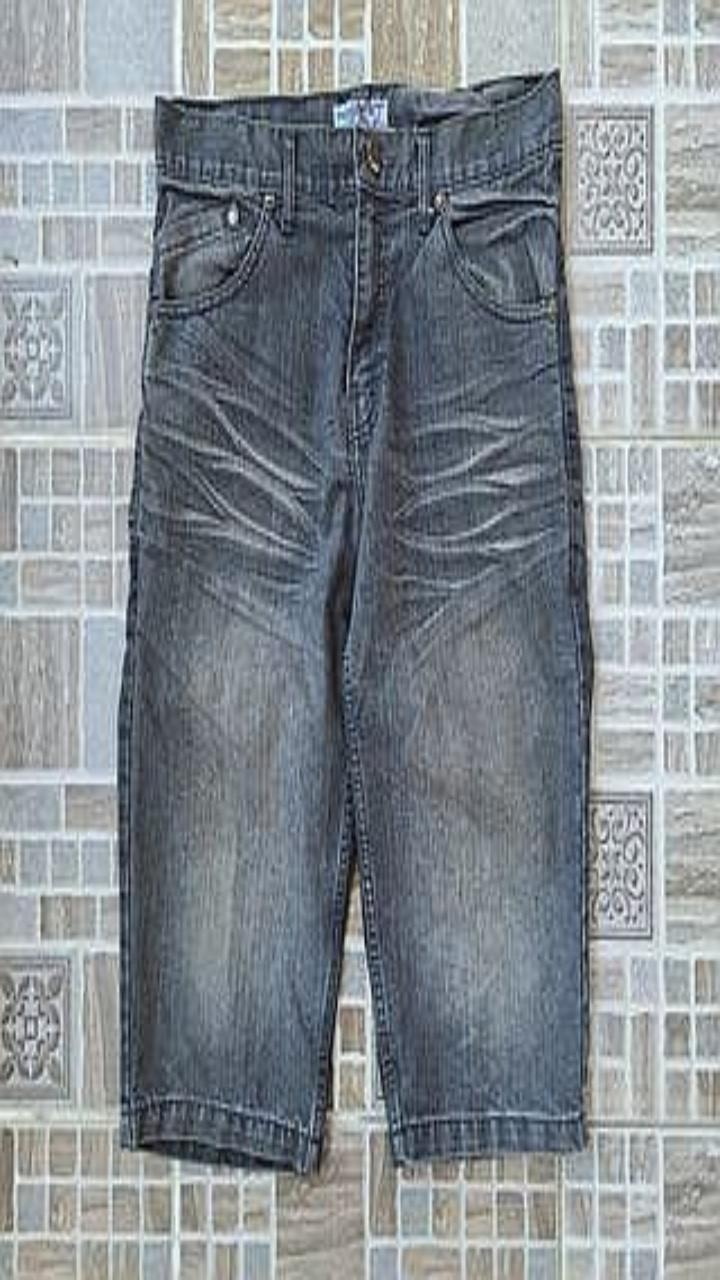Shorts: (118, 67, 592, 1172)
